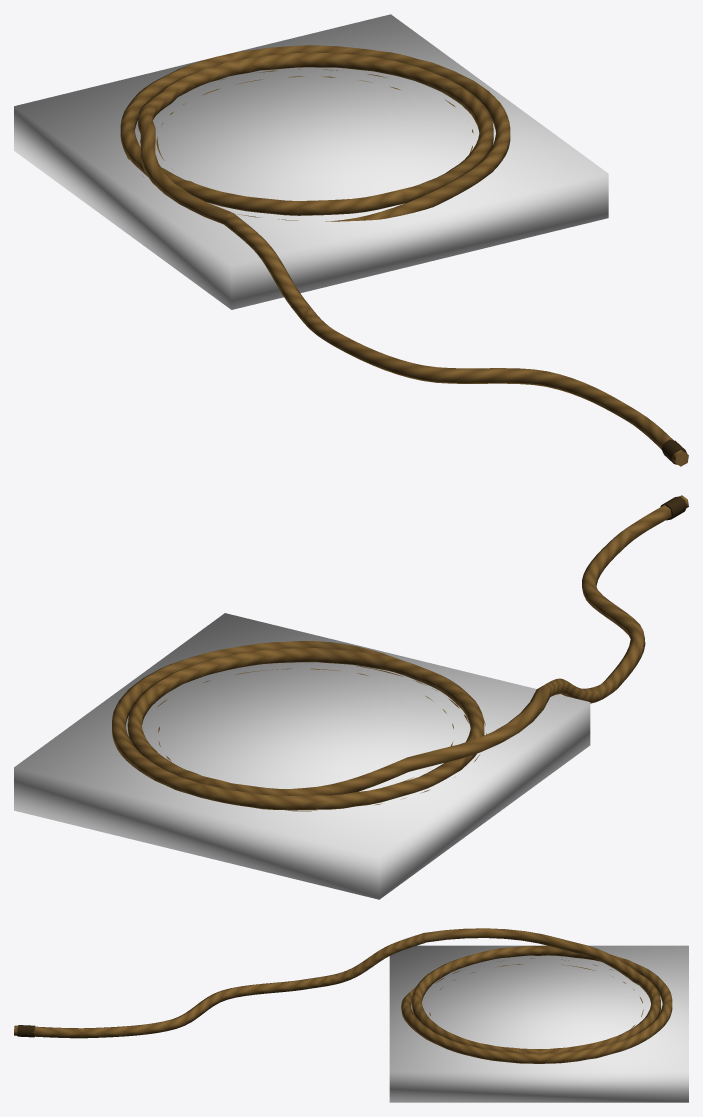
File: cuerda.glb
3 views of the same model, one above another, from view 1: azimuth 30°, elevation 25°; view 2: azimuth 150°, elevation 25°; view 3: azimuth 270°, elevation 25° (orthographic). The views are drawn at different scales.
Visible parts, largest first — view 1: cuerda_rollo-colcaja, cuerda; view 2: cuerda_rollo-colcaja, cuerda; view 3: cuerda_rollo-colcaja, cuerda.
Part boxes in pixels (x1,y1,x2,y2): cuerda_rollo-colcaja: (14, 14, 608, 309); cuerda: (120, 45, 688, 466); cuerda_rollo-colcaja: (14, 613, 590, 899); cuerda: (112, 495, 688, 811); cuerda_rollo-colcaja: (389, 945, 688, 1102); cuerda: (14, 928, 672, 1063).
Bounding box in the file's own units: 0.3219 × 0.0614 × 0.7261.
